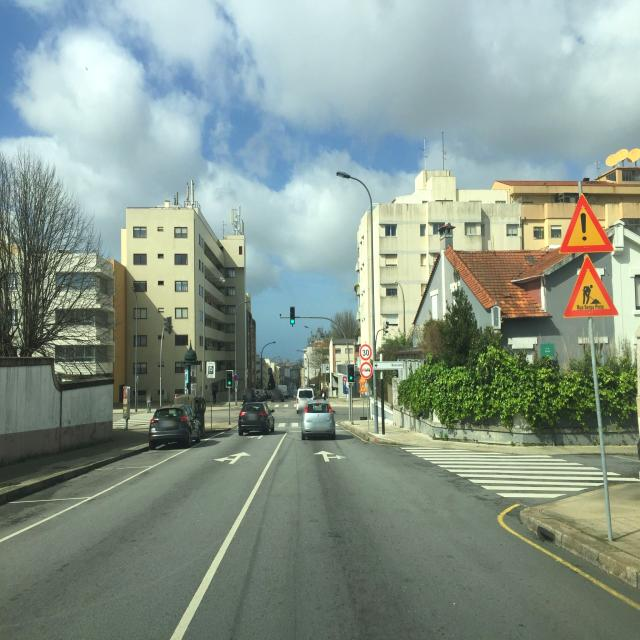car: (148, 404, 201, 449), (301, 399, 336, 440), (237, 401, 275, 435), (295, 388, 315, 414)
